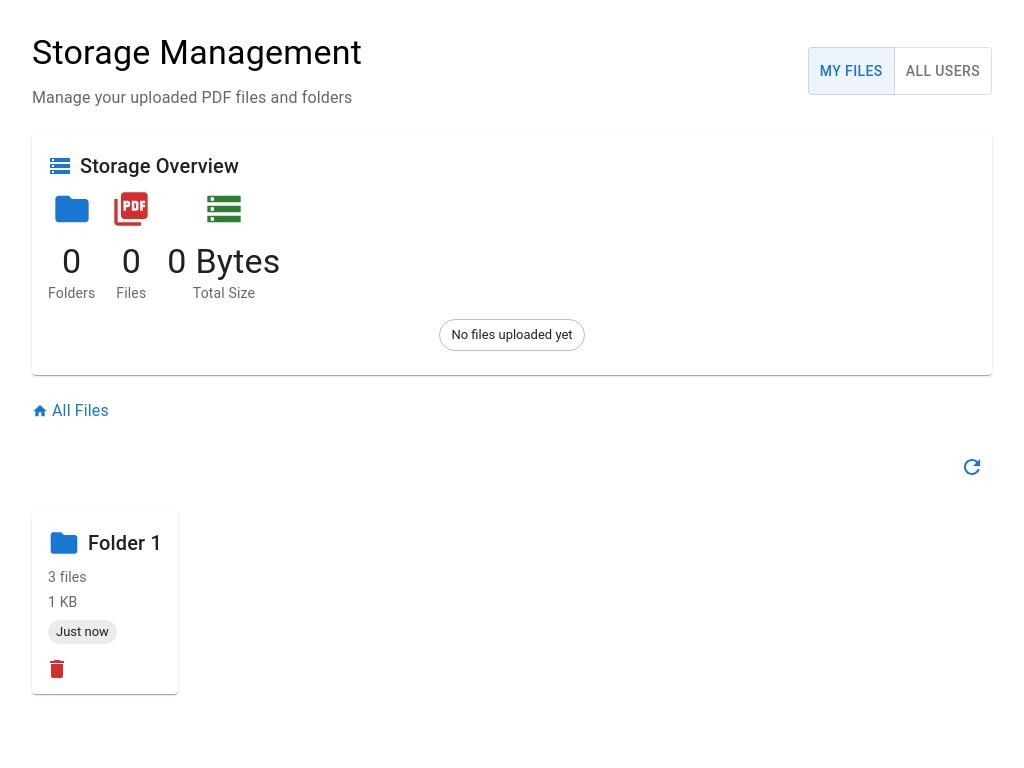
Test: StorageManagementPage Multi-User View › should switch to admin view and display PDFs from all users
This screenshot has width=1024, height=768.
expect the button "My Files" is shown: met, box [808,47,895,95]
// Switch to admin view
Click the button with test id "toggle-button-true" at (943, 71), box [894,47,992,95]
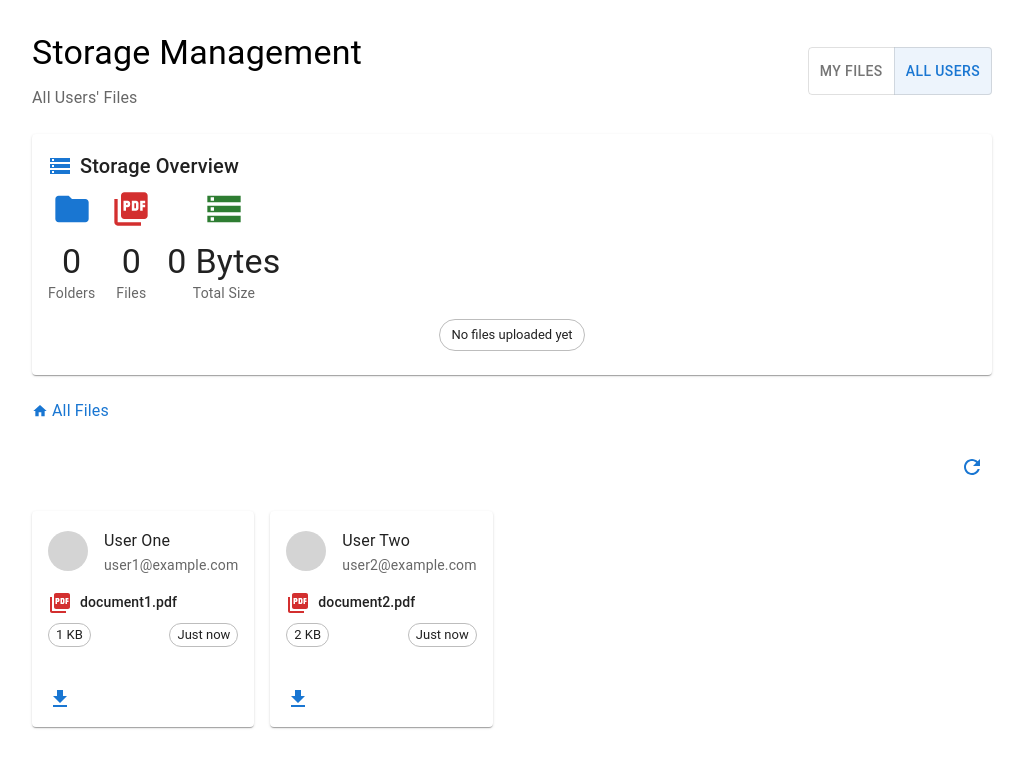
expect the heading "document1.pdf" is shown: met, box [80,592,177,614]
expect the heading "User One" is shown: met, box [104,531,170,550]
